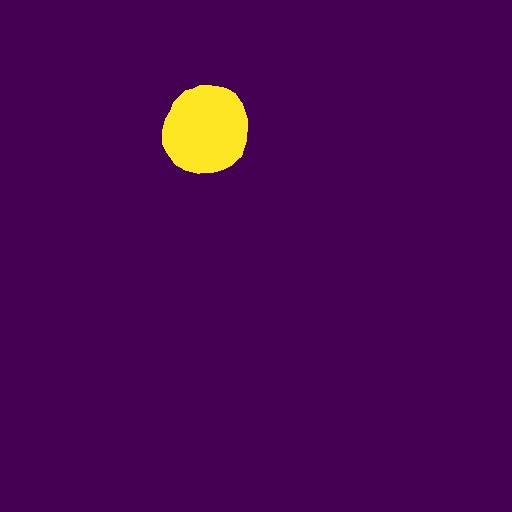Menigiomia_tumour: (162, 85, 248, 174)
